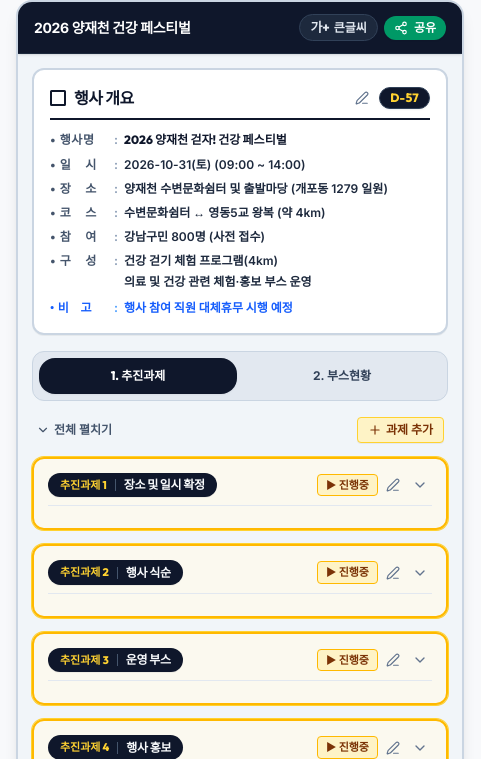
Test: Yangjae Festival Real-time Multi-Device Sync & UX Verification › R9. Booths Categorization, Korean Alphabetical Sorting & Sequential Renumbering › filters booths accurately by category without losing any booth items
This screenshot has width=481, height=759.
Switch to '2. 부스현황' tab
Click the button "2. 부스현황" at (342, 376), box 243,358 -> 441,394
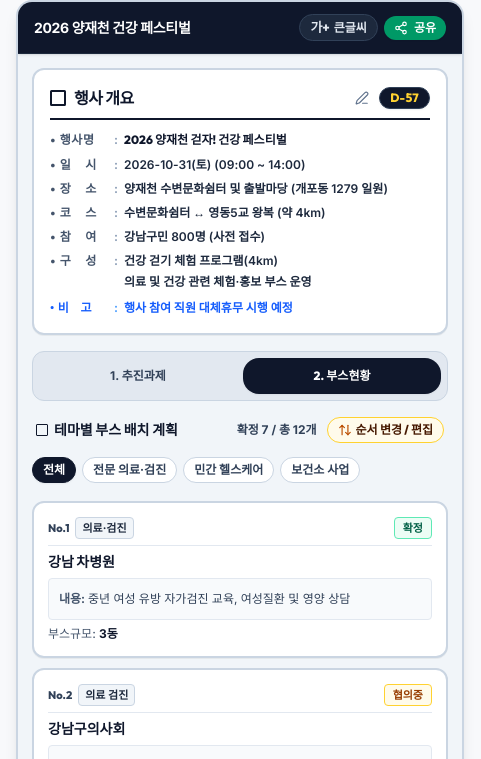
Click '전문 의료·검진' filter
Click the button "전문 의료·검진" at (130, 470), box 82,457 -> 177,483
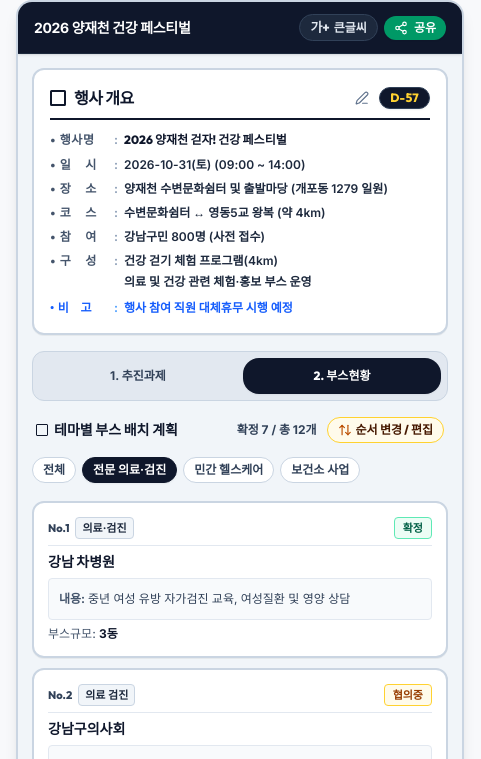
Expected: the text "한국신체정보(주)" is not shown
Now the text "강남 차병원" is shown, box 48,553 -> 115,571
Click '민간 헬스케어' filter
Click the button "민간 헬스케어" at (229, 470), box 183,457 -> 274,483
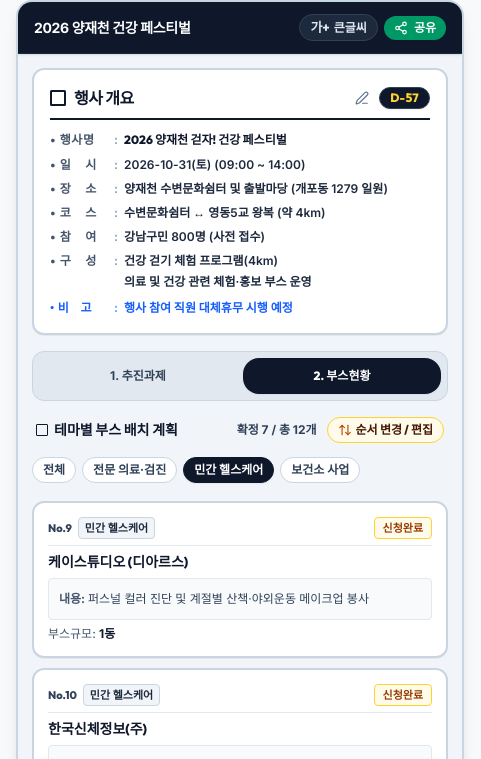
Now the text "케이스튜디오 (디아르스)" is shown, box 48,553 -> 188,571
Now the text "한국신체정보(주)" is shown, box 48,720 -> 147,738
Now the text "강남 차병원" is gone
Click '보건소 사업' filter
Click the button "보건소 사업" at (320, 470), box 280,457 -> 360,483
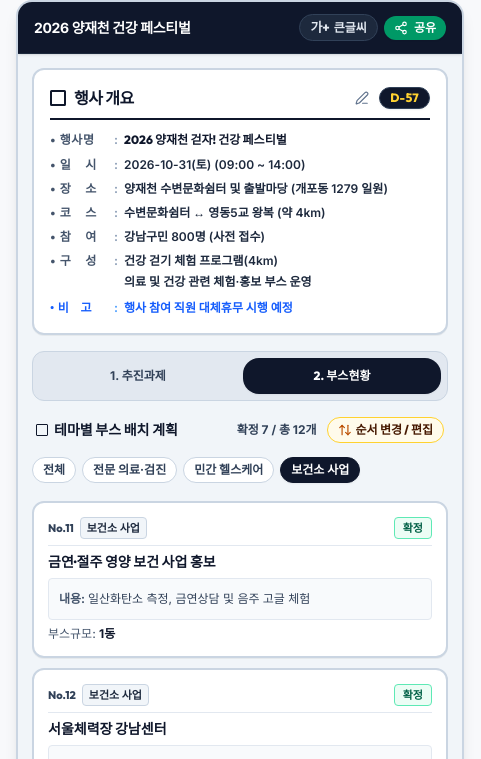
Expected: the text "강남 차병원" is not shown
Now the text "금연·절주 영양 보건 사업 홍보" is shown, box 48,553 -> 216,571
Now the text "서울체력장 강남센터" is shown, box 48,720 -> 166,738
